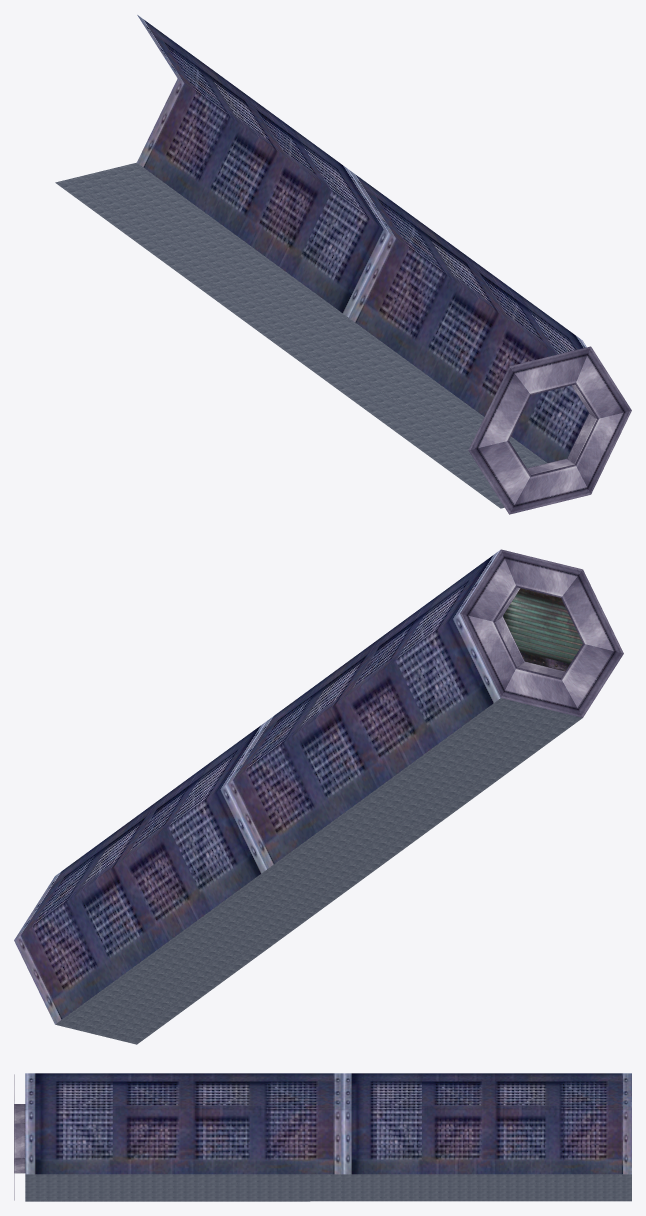
The picture shows the model from 3 angles, top to bottom: view 1: azimuth 30°, elevation 25°; view 2: azimuth 150°, elevation 25°; view 3: azimuth 270°, elevation 25°; orthographic projection. The views are drawn at different scales.
Visible parts, largest first — view 1: 01; view 2: 01; view 3: 01.
Part boxes in pixels (<box>): 01: <box>55,15,631,514</box>; 01: <box>14,549,623,1044</box>; 01: <box>14,1073,631,1201</box>.
Bounding box in the file's own units: 3624 × 3130 × 17363.
Materials: 4 (4 with a texture image).
